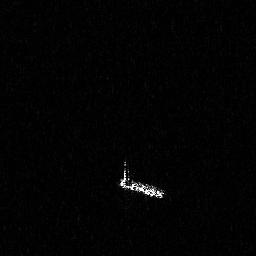ship: (116, 159, 168, 201)
